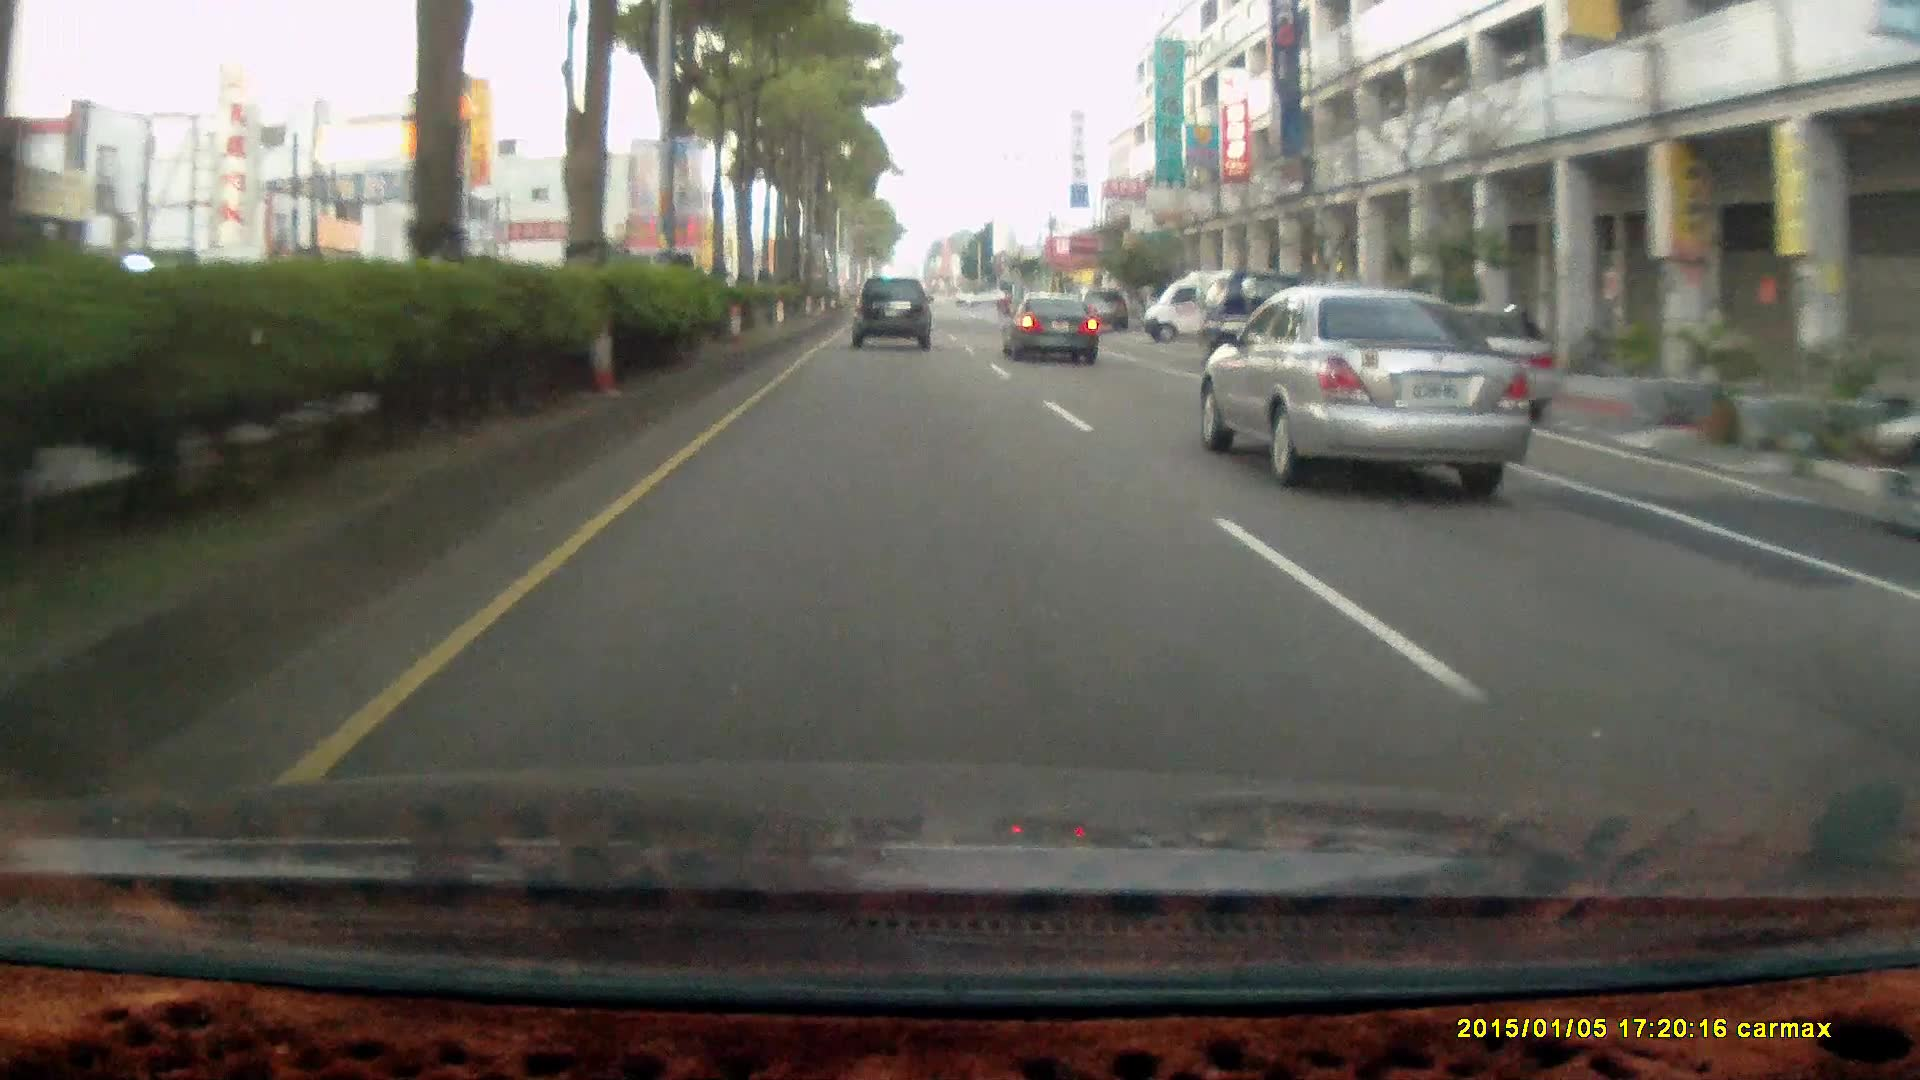vehicle: (1196, 287, 1526, 487), (1364, 307, 1556, 419), (1222, 274, 1352, 394), (1197, 270, 1325, 375), (1143, 268, 1284, 347), (1142, 269, 1282, 343), (1001, 295, 1102, 368), (1000, 287, 1096, 361), (1865, 411, 1920, 535), (851, 276, 935, 353), (849, 276, 931, 348), (1072, 285, 1127, 330)
